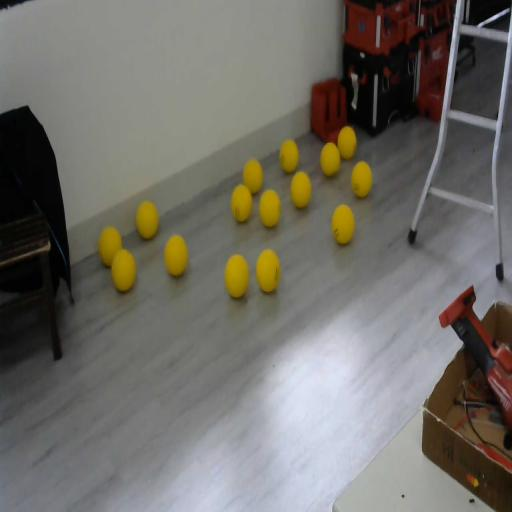FUEL: (224, 252, 250, 298), (255, 248, 281, 294), (163, 232, 189, 278), (110, 247, 136, 292), (258, 188, 282, 228), (332, 204, 354, 245), (136, 200, 158, 239), (230, 184, 252, 223), (290, 171, 312, 209), (242, 157, 264, 194), (351, 160, 372, 198), (336, 124, 358, 160), (320, 141, 340, 178), (280, 138, 299, 174)
